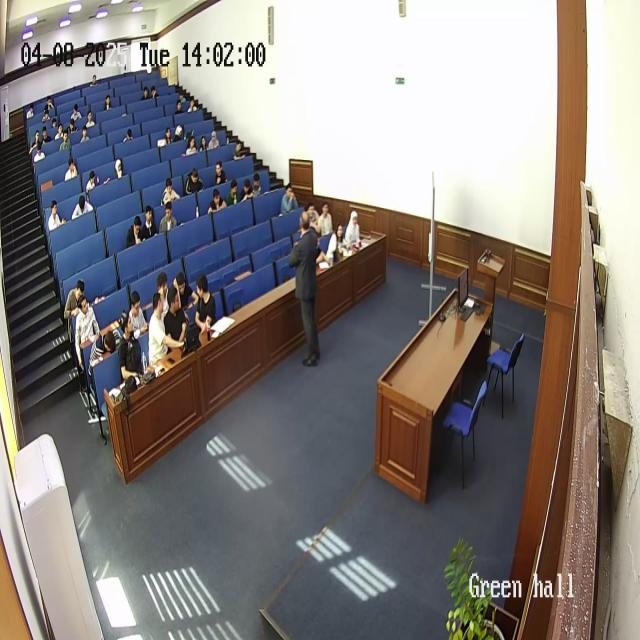person: (290, 207, 320, 365), (148, 293, 184, 367), (116, 314, 146, 382), (74, 296, 100, 372), (163, 289, 190, 351), (194, 273, 217, 331), (89, 327, 117, 373), (172, 270, 196, 318), (127, 292, 149, 338), (64, 281, 86, 325), (156, 271, 172, 317), (326, 223, 344, 259), (344, 210, 361, 248), (71, 192, 93, 220), (158, 200, 176, 234), (141, 205, 158, 239), (126, 216, 144, 248), (317, 201, 333, 236), (160, 177, 179, 206), (208, 185, 226, 215), (184, 167, 202, 196), (48, 199, 64, 231), (306, 202, 322, 234), (281, 183, 297, 214), (32, 132, 46, 161), (212, 161, 226, 187), (86, 170, 101, 194), (227, 181, 240, 207), (59, 127, 72, 153), (240, 178, 254, 202), (64, 158, 78, 182), (249, 175, 262, 198), (233, 140, 247, 161), (158, 127, 172, 148), (112, 158, 124, 180), (207, 133, 220, 152), (38, 129, 50, 149), (174, 125, 186, 143), (80, 125, 92, 143), (186, 137, 197, 155), (69, 108, 78, 130), (26, 101, 36, 120), (198, 135, 208, 153), (56, 125, 66, 143), (86, 109, 96, 127), (174, 96, 184, 114), (40, 108, 52, 123), (46, 94, 56, 112), (88, 72, 100, 86), (187, 98, 198, 113), (103, 94, 112, 112), (123, 127, 133, 142), (148, 88, 158, 101), (142, 88, 150, 101)
